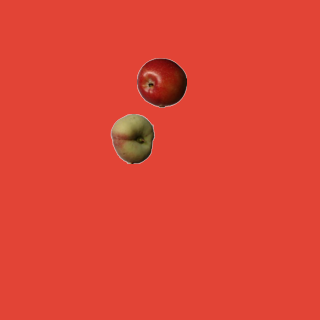Apple Braeburn: (136, 57, 186, 107)
Peach Flat: (107, 113, 157, 163)
